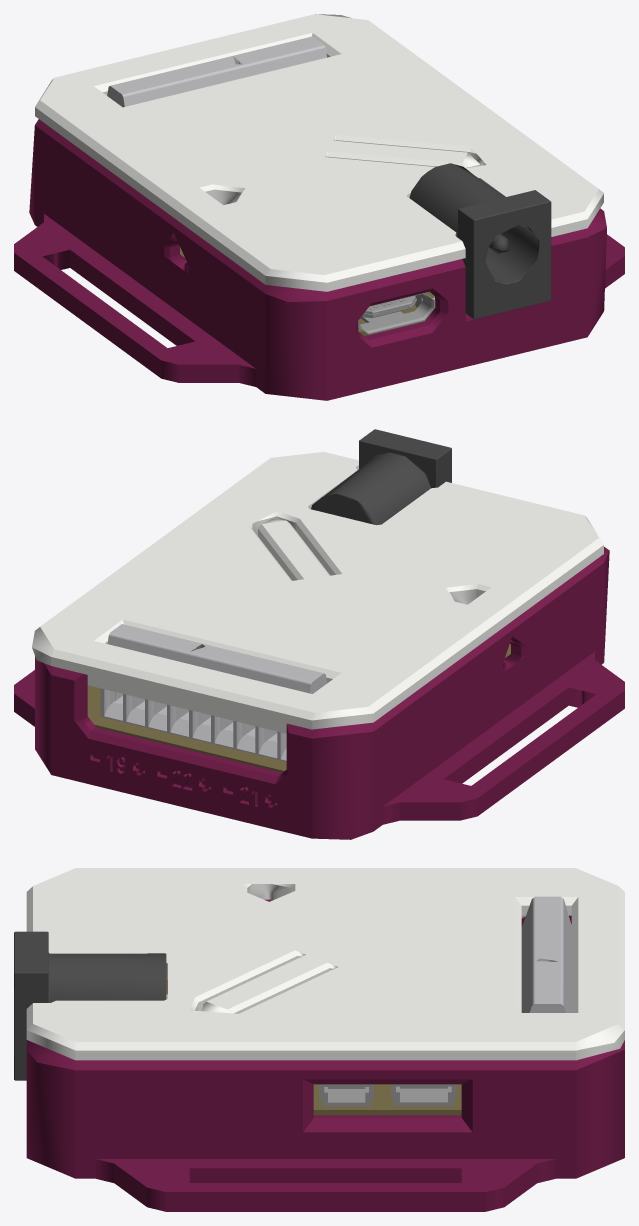
File: ada-6301.glb
3 views of the same model, one above another, from view 1: azimuth 30°, elevation 25°; view 2: azimuth 150°, elevation 25°; view 3: azimuth 270°, elevation 25° (orthographic). The views are drawn at different scales.
Parts seen in each view (by area): view 1: 0.9166666666666666_0.9166666666666666_0.9166666666666666_0.8, 0.16666666666666666_0_0.08333333333333333_0, 0.08333333333333333_0.08333333333333333_0.08333333333333333_, 0.5833333333333334_0.5833333333333334_0.5833333333333334_0.8, 0.3333333333333333_0.3333333333333333_0.3333333333333333_0; view 2: 0.9166666666666666_0.9166666666666666_0.9166666666666666_0.8, 0.16666666666666666_0_0.08333333333333333_0, 0.5833333333333334_0.5833333333333334_0.5833333333333334_0.8, 0.08333333333333333_0.08333333333333333_0.08333333333333333_, 0.16666666666666666_0.16666666666666666_0.08333333333333333_; view 3: 0.9166666666666666_0.9166666666666666_0.9166666666666666_0.8, 0.16666666666666666_0_0.08333333333333333_0, 0.08333333333333333_0.08333333333333333_0.08333333333333333_, 0.5833333333333334_0.5833333333333334_0.5833333333333334_0.8, 0.3333333333333333_0.3333333333333333_0.3333333333333333_0, 0.16666666666666666_0.16666666666666666_0.08333333333333333_.
Boxes of the visible parts, x1,y1,x2,y2 form: 0.9166666666666666_0.9166666666666666_0.9166666666666666_0.8: (35,14,603,291); 0.16666666666666666_0_0.08333333333333333_0: (14,119,624,400); 0.08333333333333333_0.08333333333333333_0.08333333333333333_: (409,163,551,319); 0.5833333333333334_0.5833333333333334_0.5833333333333334_0.8: (107,36,434,299); 0.3333333333333333_0.3333333333333333_0.3333333333333333_0: (358,292,435,334); 0.9166666666666666_0.9166666666666666_0.9166666666666666_0.8: (32,452,603,733); 0.16666666666666666_0_0.08333333333333333_0: (14,547,624,839); 0.5833333333333334_0.5833333333333334_0.5833333333333334_0.8: (100,624,327,761); 0.08333333333333333_0.08333333333333333_0.08333333333333333_: (311,429,451,525); 0.16666666666666666_0.16666666666666666_0.08333333333333333_: (87,643,510,772); 0.9166666666666666_0.9166666666666666_0.9166666666666666_0.8: (26,868,624,1060); 0.16666666666666666_0_0.08333333333333333_0: (26,899,624,1211); 0.08333333333333333_0.08333333333333333_0.08333333333333333_: (14,931,166,1080); 0.5833333333333334_0.5833333333333334_0.5833333333333334_0.8: (166,896,571,1012); 0.3333333333333333_0.3333333333333333_0.3333333333333333_0: (319,1084,456,1106); 0.16666666666666666_0.16666666666666666_0.08333333333333333_: (166,979,461,1115).
Bounding box in the file's own units: 5.34 × 1.66 × 5.62.
